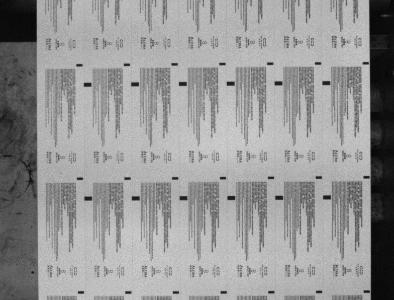backgroundclutter: (31, 271, 35, 274)
qblock: (275, 195, 284, 200), (227, 81, 235, 86), (84, 82, 92, 87), (84, 196, 92, 201), (322, 81, 331, 85), (323, 195, 332, 199), (179, 196, 188, 200), (275, 81, 283, 85), (179, 82, 187, 86), (131, 82, 139, 86), (227, 196, 235, 200), (132, 196, 140, 200)
smallqblock: (219, 62, 226, 66), (76, 64, 83, 67), (171, 63, 178, 66), (267, 62, 274, 65), (315, 62, 322, 65), (124, 177, 131, 180), (172, 177, 179, 180), (220, 176, 227, 179), (268, 176, 275, 179), (363, 62, 370, 65), (316, 176, 323, 179), (364, 176, 371, 179), (78, 291, 85, 294), (125, 291, 132, 294), (172, 291, 179, 294), (268, 290, 275, 293), (221, 291, 228, 294), (316, 290, 323, 293), (364, 290, 371, 293), (124, 63, 130, 66), (77, 177, 83, 180)
